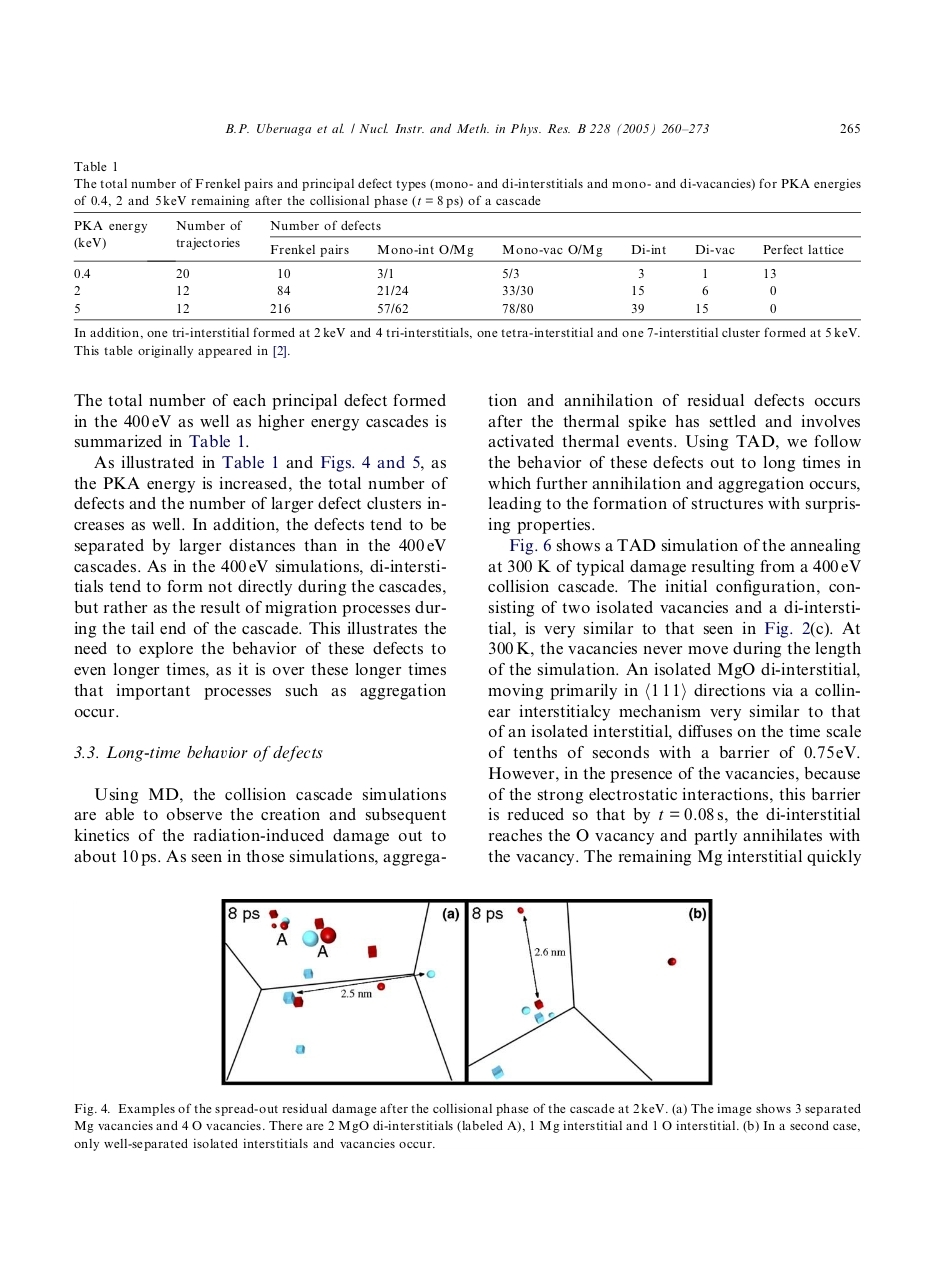Table: (73, 212, 860, 320)
figure: (221, 897, 712, 1086)
